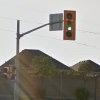Traffic light: (55, 8, 89, 49)
